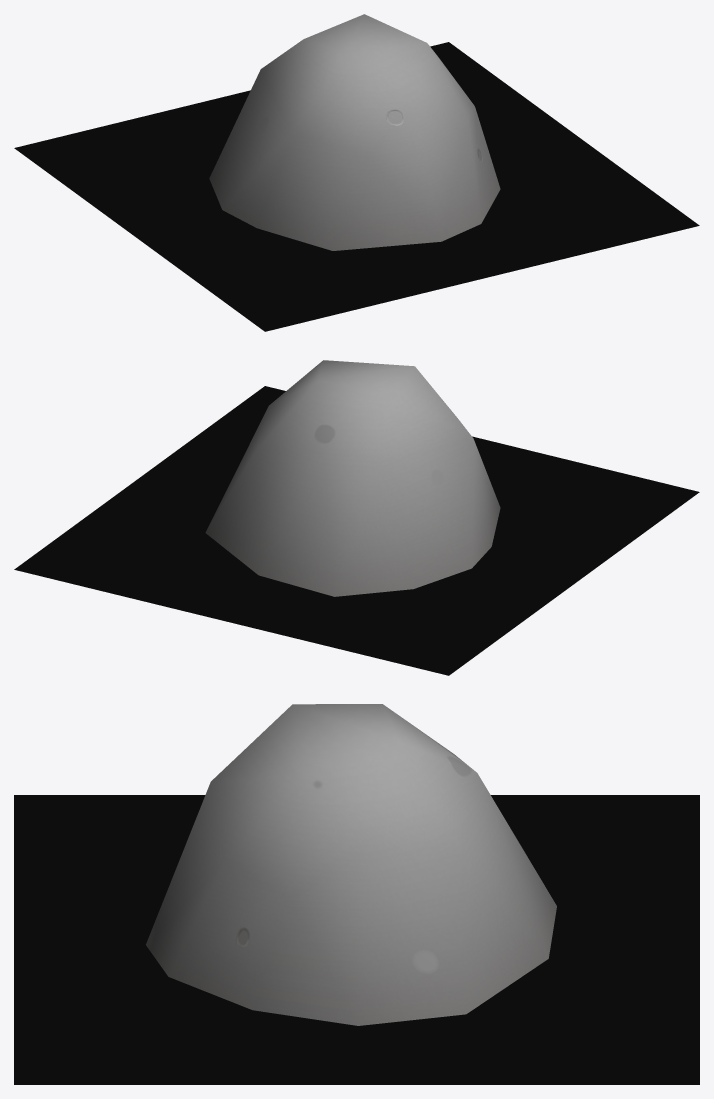
The model's file is rock_2.fbx.
3 views of the same model, one above another, from view 1: azimuth 30°, elevation 25°; view 2: azimuth 150°, elevation 25°; view 3: azimuth 270°, elevation 25° (orthographic). The views are drawn at different scales.
Parts seen in each view (by area): view 1: Shadow, rock_2; view 2: Shadow, rock_2; view 3: Shadow, rock_2.
Part boxes in pixels (x1=…): Shadow: x1=14, y1=42, x2=699, y2=331; rock_2: x1=209, y1=14, x2=500, y2=250; Shadow: x1=14, y1=386, x2=699, y2=675; rock_2: x1=205, y1=360, x2=500, y2=596; Shadow: x1=14, y1=795, x2=699, y2=1084; rock_2: x1=146, y1=704, x2=556, y2=1025.
Bounding box in the file's own units: 400 × 138 × 400.
